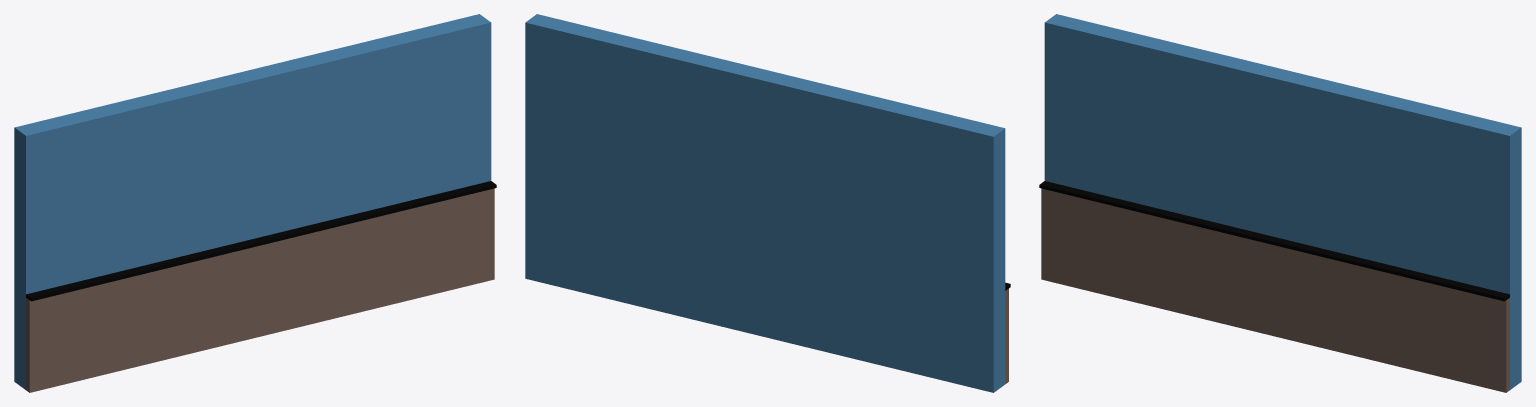
The model's file is P_Wall_Big.fbx.
3 renders of one model, left to right at view 1: azimuth 30°, elevation 25°; view 2: azimuth 150°, elevation 25°; view 3: azimuth 330°, elevation 25°, orthographic.
Parts seen in each view (by area): view 1: P_Wall_Big; view 2: P_Wall_Big; view 3: P_Wall_Big.
Boxes of the visible parts, bbox=[...] form: P_Wall_Big: bbox=[14, 14, 496, 392]; P_Wall_Big: bbox=[525, 14, 1010, 392]; P_Wall_Big: bbox=[1039, 14, 1521, 392].
Bounding box in the file's own units: 3000 × 189 × 1568.
